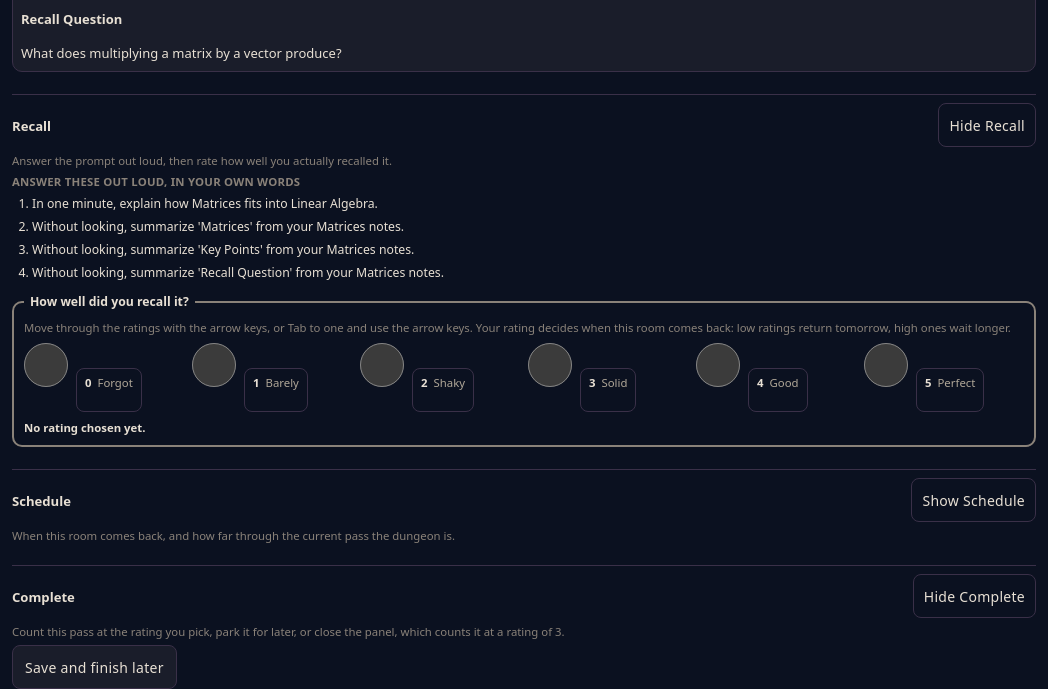
Test: the two routes out of the workspace say the same thing about the same pass › still says the panel-close number after a rating has been chosen, because the button is not that route
The width and height of the screenshot is (1048, 689).
(page scrolled)
Click the radio button labelled "5 Perfect": (886, 365) 864,343 -> 908,387
(page scrolled)
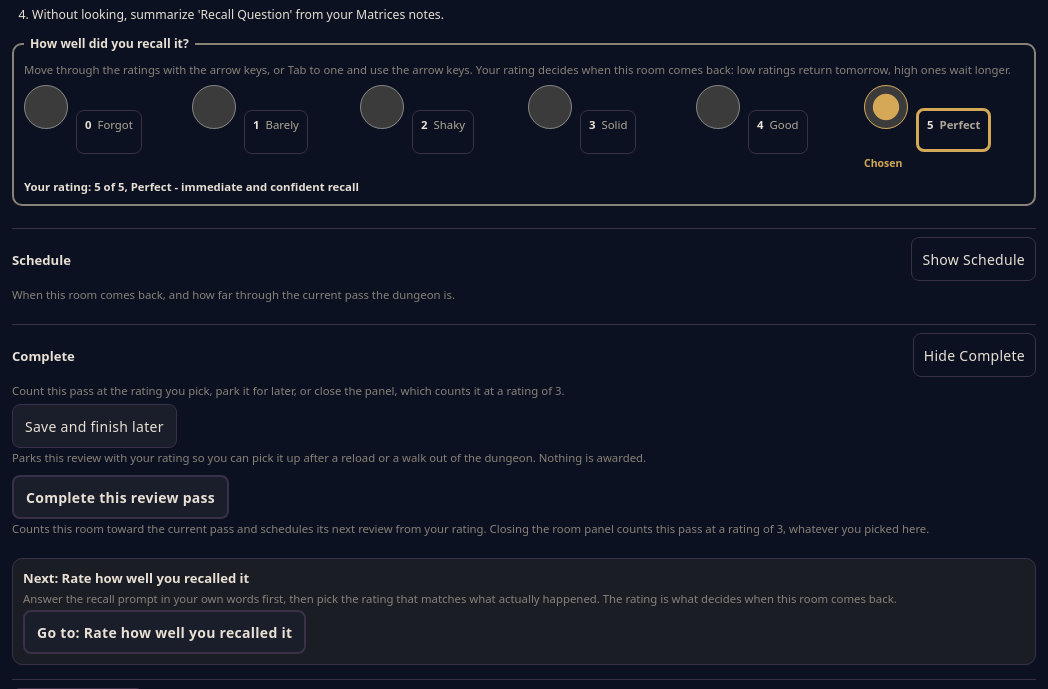
Expected: the button "Complete this review pass" is enabled, 12,475 -> 229,519
